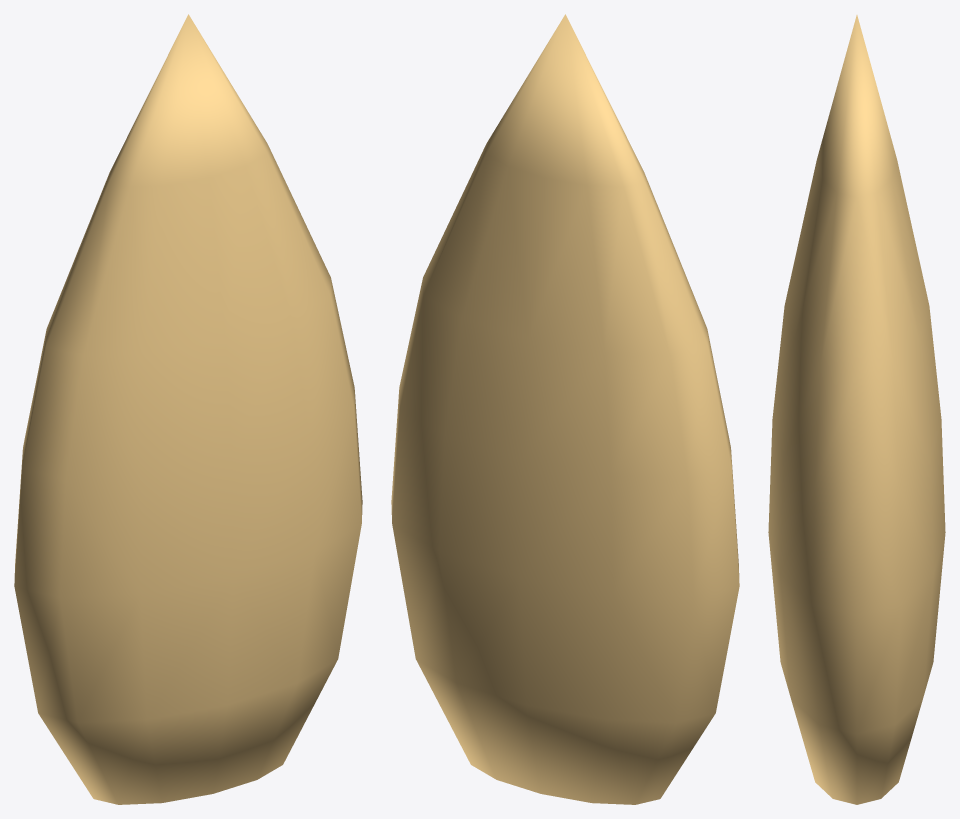
Rendered from hl_flame.glb.
3 views of the same model, side by side, from view 1: azimuth 30°, elevation 25°; view 2: azimuth 150°, elevation 25°; view 3: azimuth 270°, elevation 25° (orthographic). The views are drawn at different scales.
Visible parts, largest first — view 1: hl_flame; view 2: hl_flame; view 3: hl_flame.
Boxes of the visible parts, <box> form: hl_flame: <box>14,14,362,804</box>; hl_flame: <box>391,14,739,804</box>; hl_flame: <box>768,15,945,804</box>.
Size of the model in its own units: 0.022 by 0.046 by 0.0099.
